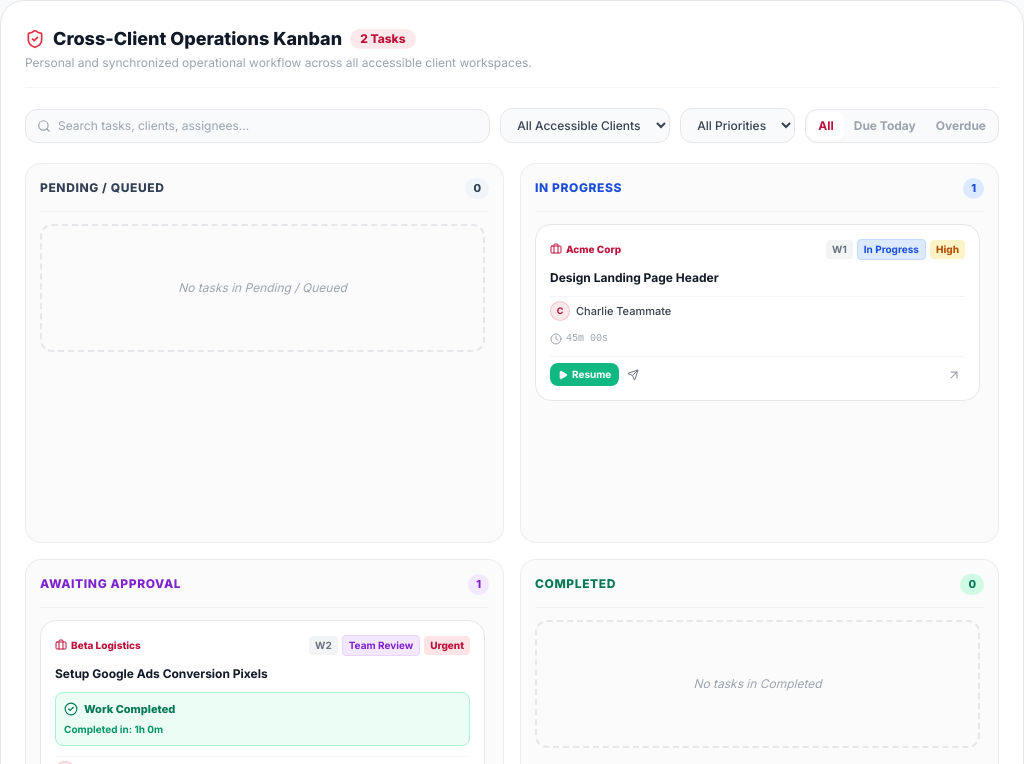
Test: Synchronized Operations & Dashboards Feature Suite › 1. PersonalCrossClientKanban Component › filters tasks by client accurately
Expected: the heading "Design Landing Page Header" is shown, [550,270,719,284]
Step 1. Select "Beta Logistics" in the 1st dropdown showing "All Accessible Clients" → (585, 126), box [500,108,670,143]
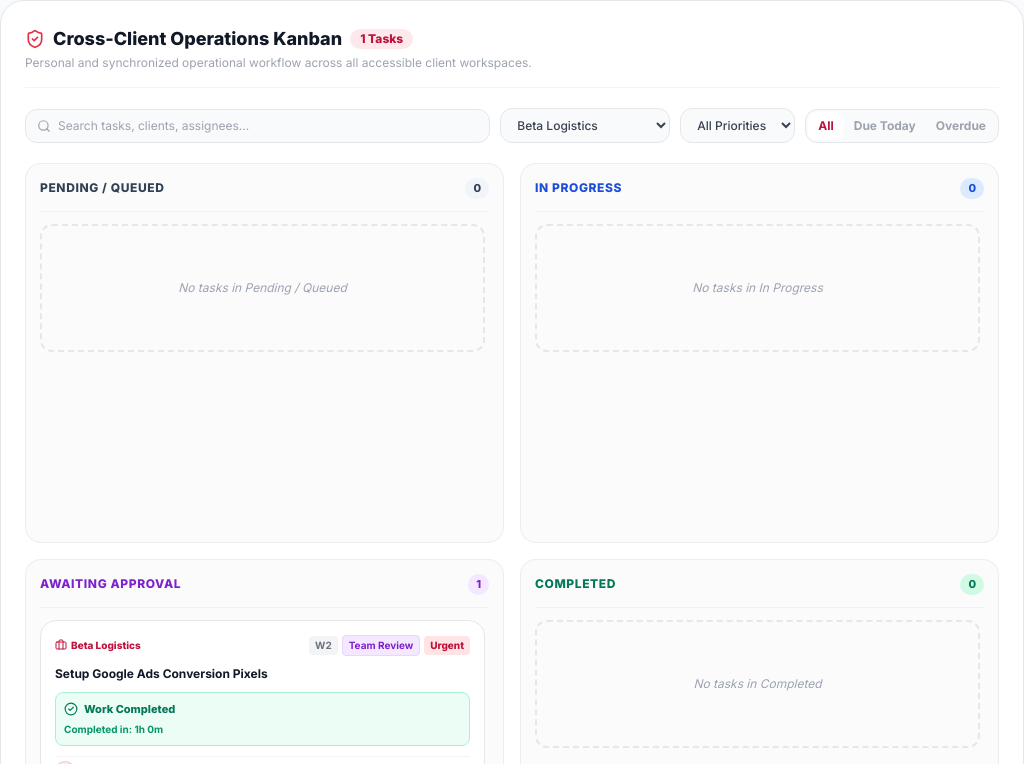
Expected: the heading "Setup Google Ads Conversion Pixels" is shown, [55,666,268,680]
Result: the heading "Design Landing Page Header" is gone
